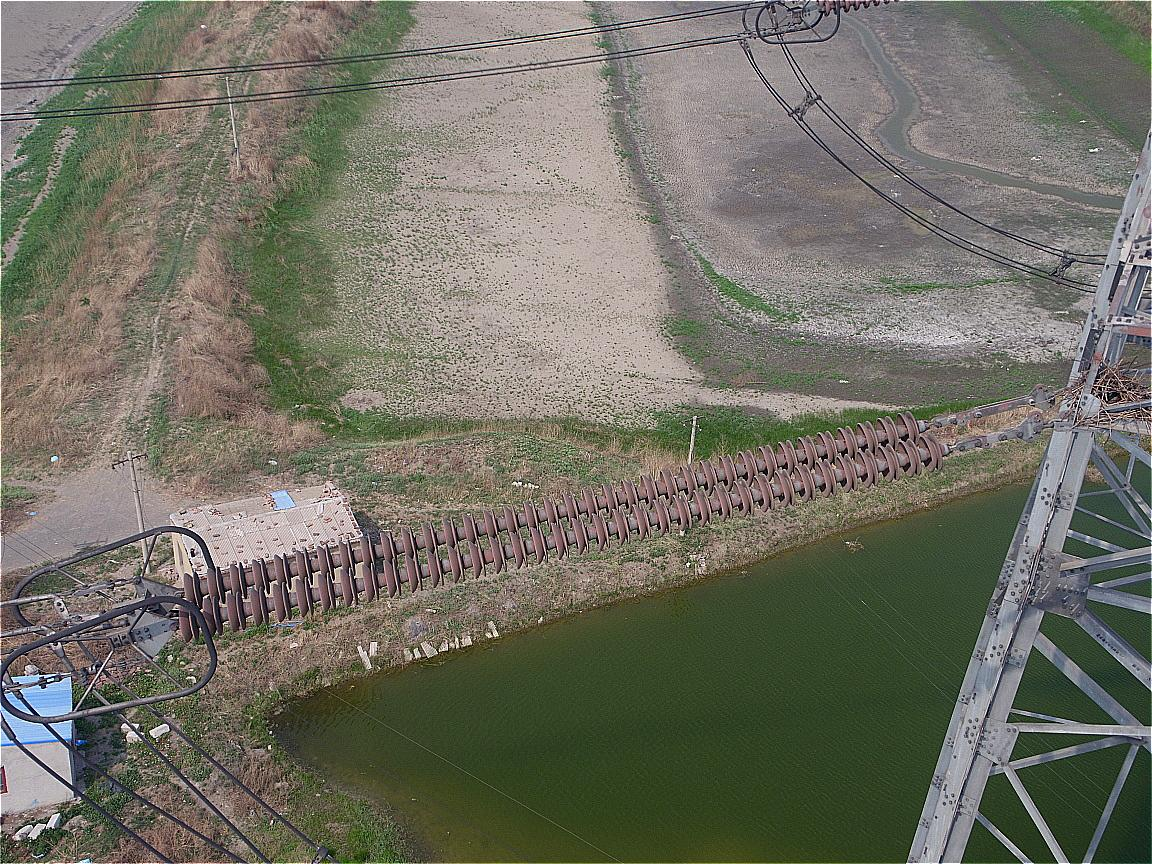insultor2: (178, 411, 943, 642)
